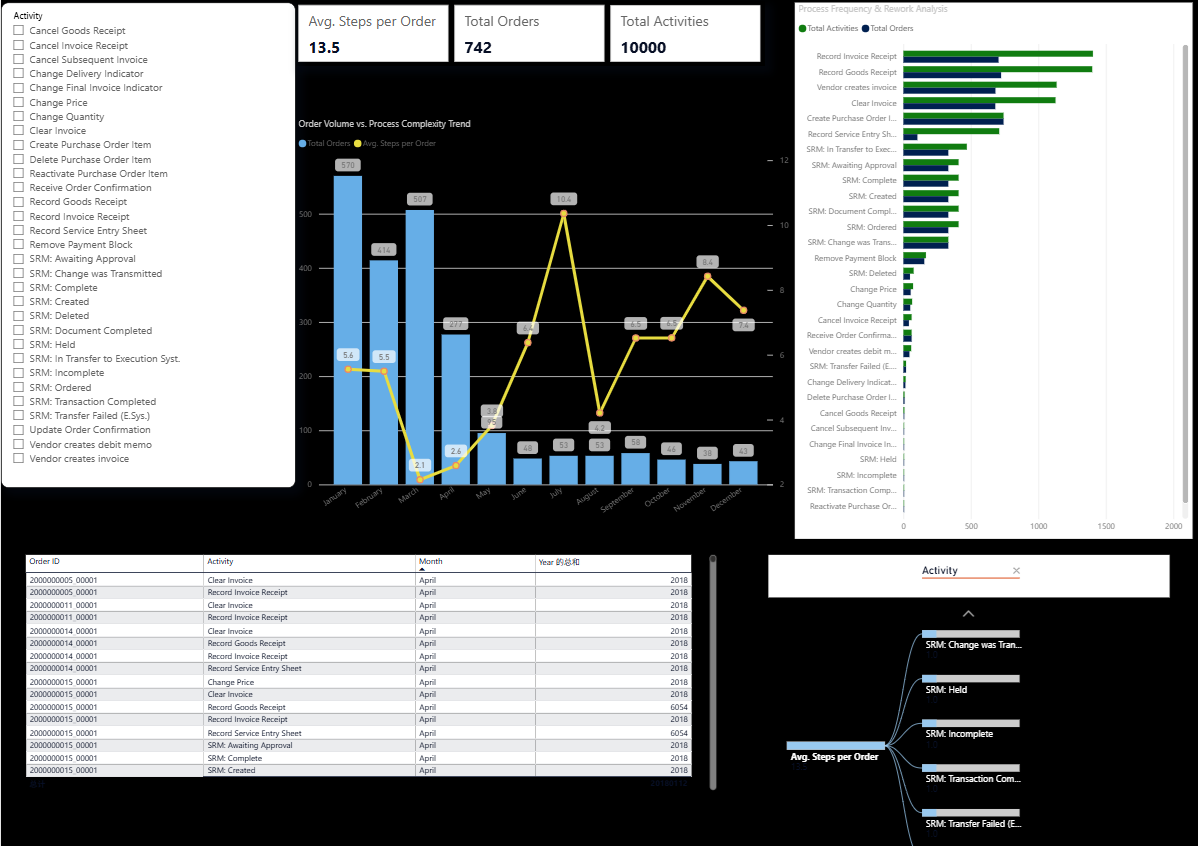

The dashboard page shown, as its layout file describes it:
{"tool":"powerbi","page":{"name":"第 1 页","canvas":[1600,1300],"ordinal":0},"visuals":[{"type":"clusteredBarChart","title":"Process Frequency & Rework Analysis","fields":{"Y":["bpi_2019_sample.Total Activities","bpi_2019_sample.Total Orders"],"Category":["bpi_2019_sample.Activity"]},"box":[1057.5,2.5,530,715],"z":0},{"type":"tableEx","fields":{"Values":["bpi_2019_sample.Order ID","bpi_2019_sample.Activity","bpi_2019_sample.Month","Sum(bpi_2019_sample.Year)"]},"box":[26.7,735.6,932.2,323.3],"z":1000},{"type":"slicer","fields":{"Values":["bpi_2019_sample.Activity"]},"box":[0,2.5,392.5,647.5],"z":2000},{"type":"cardVisual","fields":{"Data":["bpi_2019_sample.Rework Rate","bpi_2019_sample.Total Orders","bpi_2019_sample.Total Activities"]},"box":[392,2,626,86],"z":3000},{"type":"lineClusteredColumnComboChart","title":"Order Volume vs. Process Complexity Trend","fields":{"Category":["bpi_2019_sample.Timestamp.变体.日期层次结构.月份","bpi_2019_sample.Timestamp.变体.日期层次结构.日"],"Y":["bpi_2019_sample.Total Orders"],"Y2":["bpi_2019_sample.Avg. Steps per Order"]},"box":[392,156,664,540],"z":4000},{"type":"decompositionTreeVisual","fields":{"Analyze":["bpi_2019_sample.Avg. Steps per Order"],"ExplainBy":["bpi_2019_sample.Activity"]},"box":[1018.3,735,545,496.7],"z":5000}]}

Visuals, with their boxes on the page's 1600x1300 design canvas (x1, y1, x2, y2). These are canvas units, not pixel positions in the 1198x846 screenshot, which may show the page scaled, cropped or inside an application window:
"Process Frequency & Rework Analysis" clusteredBarChart: [1058, 2, 1588, 718]
tableEx - bpi_2019_sample.Order ID x bpi_2019_sample.Activity: [27, 736, 959, 1059]
slicer - bpi_2019_sample.Activity: [0, 2, 392, 650]
cardVisual - bpi_2019_sample.Rework Rate x bpi_2019_sample.Total Orders: [392, 2, 1018, 88]
"Order Volume vs. Process Complexity Trend" lineClusteredColumnComboChart: [392, 156, 1056, 696]
decompositionTreeVisual - bpi_2019_sample.Avg. Steps per Order x bpi_2019_sample.Activity: [1018, 735, 1563, 1232]
